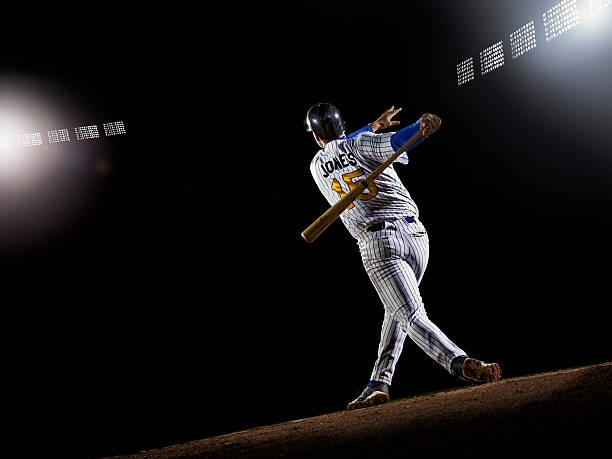bita: (295, 127, 430, 247)
